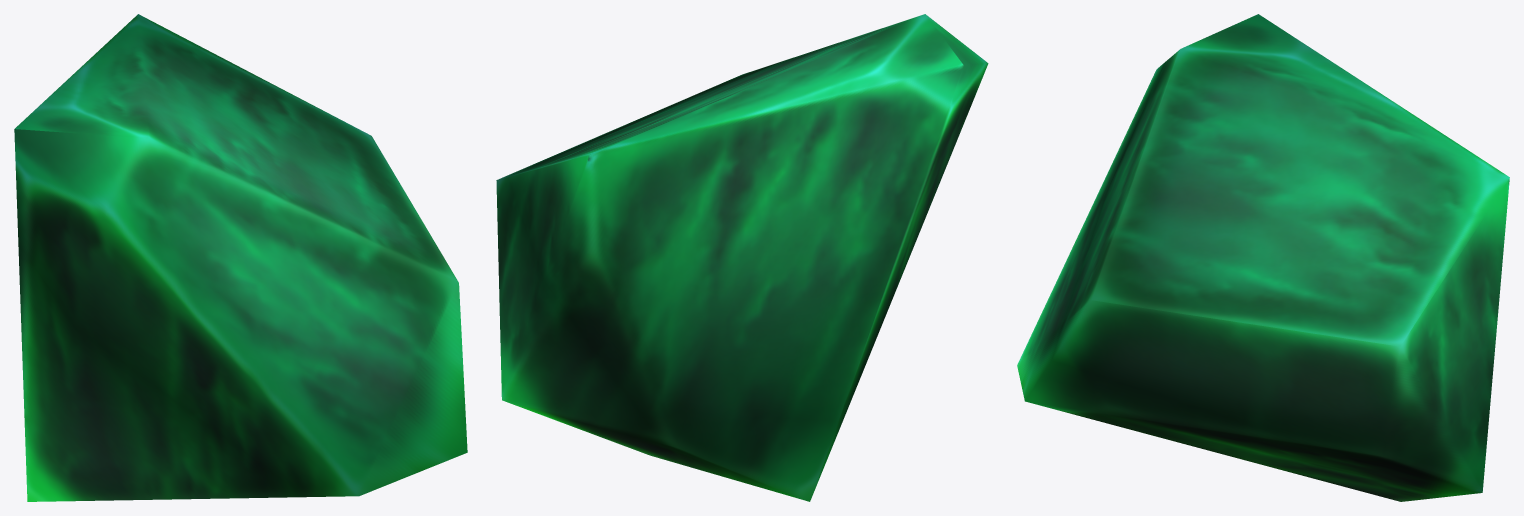
The model's file is GemStone00.fbx.
The picture shows the model from 3 angles, left to right: view 1: azimuth 30°, elevation 25°; view 2: azimuth 150°, elevation 25°; view 3: azimuth 270°, elevation 25°; orthographic projection. The views are drawn at different scales.
Visible parts, largest first — view 1: GemStone00; view 2: GemStone00; view 3: GemStone00.
Boxes of the visible parts, x1,y1,x2,y2 form: GemStone00: (14,14,467,501); GemStone00: (496,14,988,501); GemStone00: (1017,14,1509,501).
Bounding box in the file's own units: 70.98 × 70.22 × 80.66.
